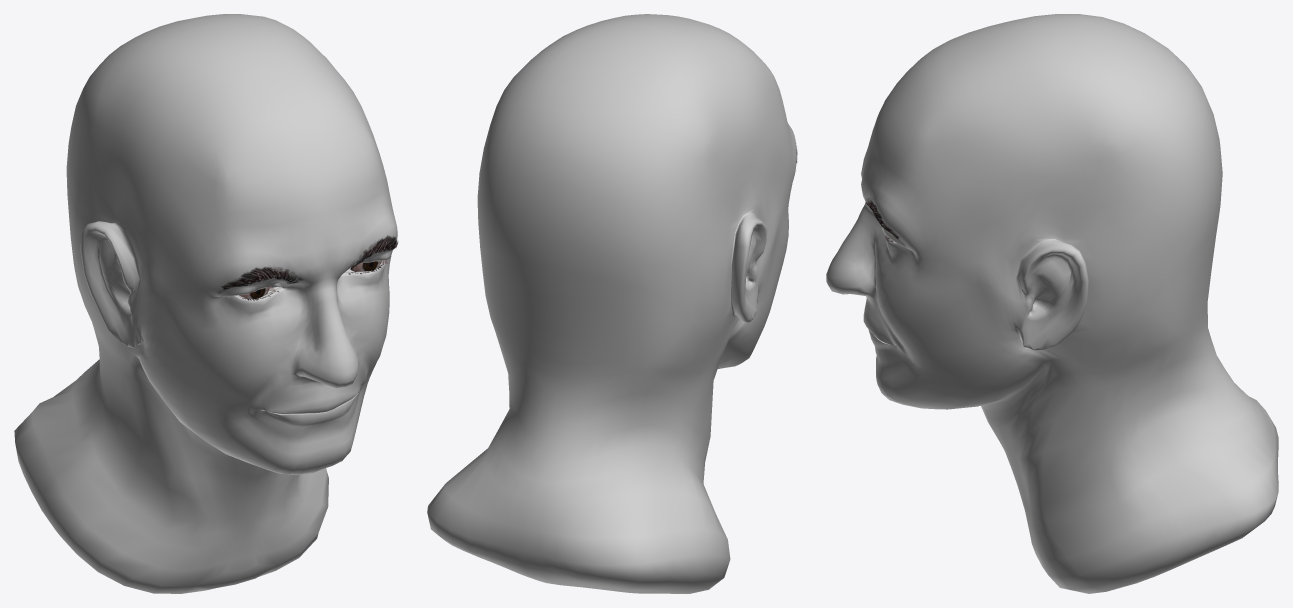
3 renders of one model, left to right at view 1: azimuth 30°, elevation 25°; view 2: azimuth 150°, elevation 25°; view 3: azimuth 270°, elevation 25°, orthographic. The views are drawn at different scales.
Parts seen in each view (by area): view 1: Head, Brow_Lash; view 2: Head; view 3: Head.
Boxes of the visible parts, left/top/right/bottom form: Head: left=14, top=14, right=397, bottom=593; Brow_Lash: left=218, top=235, right=397, bottom=300; Head: left=427, top=14, right=796, bottom=593; Head: left=826, top=14, right=1278, bottom=593.
Size of the model in its own units: 0.7509 by 1.49 by 1.15.
